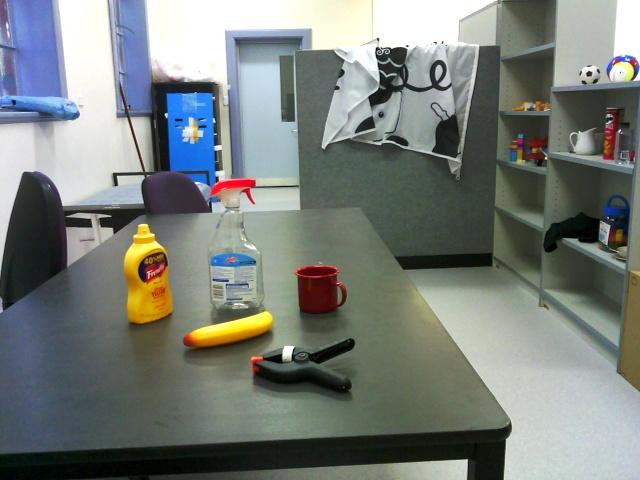006_mustard_bottle: (122, 222, 175, 326)
011_banana: (181, 308, 275, 351)
025_mug: (292, 264, 348, 316)
051_large_clamp: (249, 336, 358, 394)
